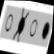correct: (40, 20, 51, 42)
not correct: (12, 5, 31, 44)
